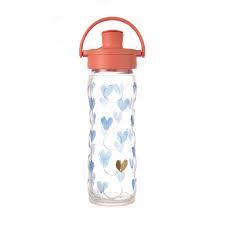Plastic shaker: (67, 15, 151, 209)
